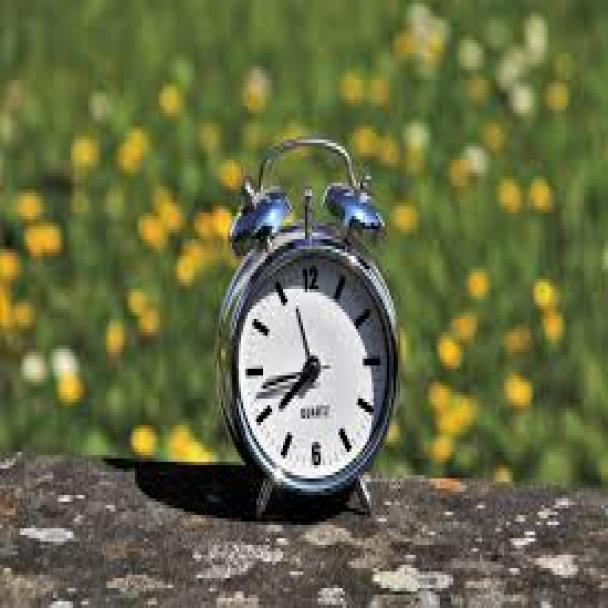Jam: (219, 227, 400, 495)
